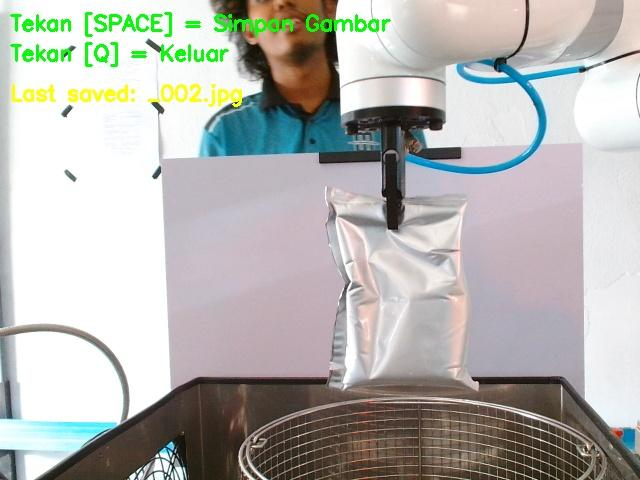retort-pouch: (319, 185, 478, 394)
